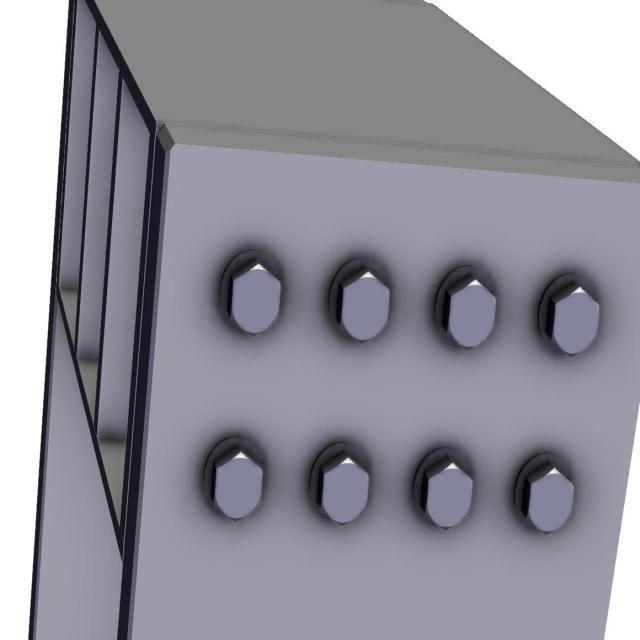bolt head: (226, 258, 283, 339), (335, 264, 391, 345), (442, 270, 497, 352), (208, 443, 265, 522), (544, 281, 600, 359), (315, 449, 369, 527), (420, 455, 474, 533), (520, 462, 574, 537)
